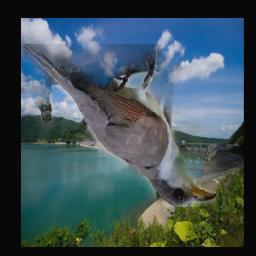Cuckoo: (23, 44, 215, 207)
